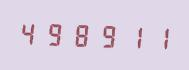eight: (68, 19, 92, 49)
four: (17, 17, 41, 48)
nine: (42, 18, 66, 49), (93, 19, 117, 50)
one: (118, 20, 142, 51), (143, 21, 167, 52)
